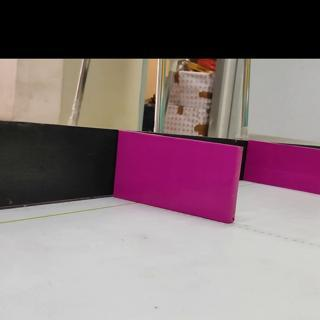xparking: (119, 145, 238, 216), (249, 147, 320, 187)
